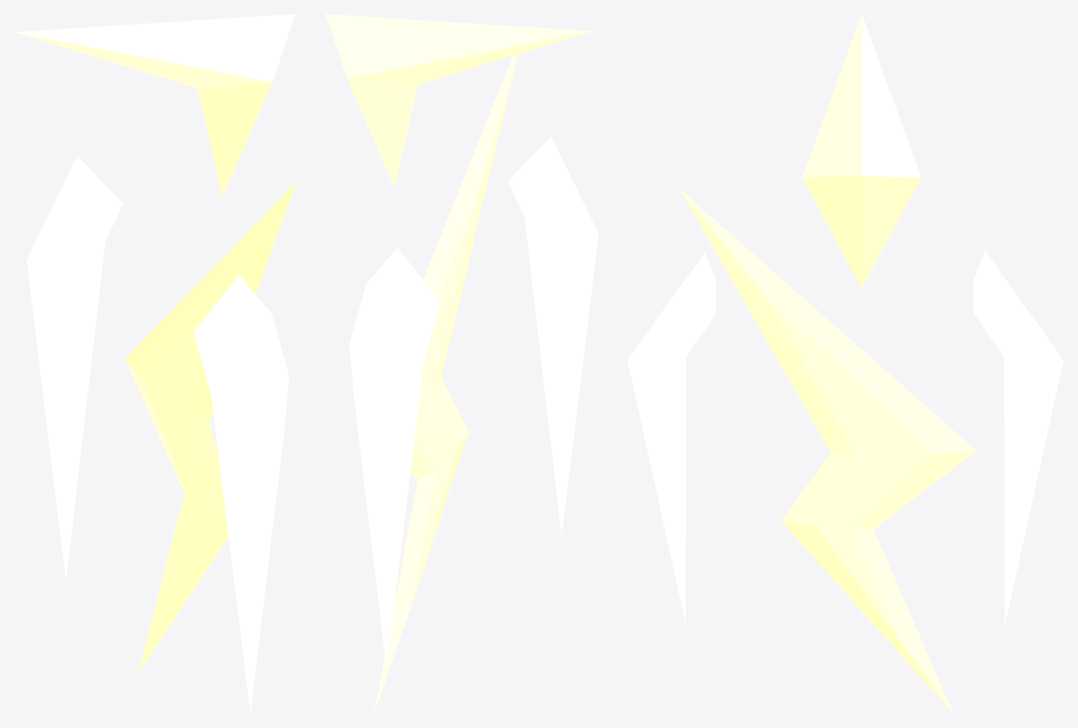
File: Elec_Enemy_Martijn.fbx
3 views of the same model, side by side, from view 1: azimuth 30°, elevation 25°; view 2: azimuth 150°, elevation 25°; view 3: azimuth 270°, elevation 25° (orthographic). The views are drawn at different scales.
Visible parts, largest first — view 1: Cube; view 2: Cube; view 3: Cube.
Boxes of the visible parts, bbox=[...] form: Cube: bbox=[14, 14, 296, 712]; Cube: bbox=[325, 14, 598, 712]; Cube: bbox=[627, 14, 1063, 712].
Size of the model in its own units: 64.62 by 159 by 100.
